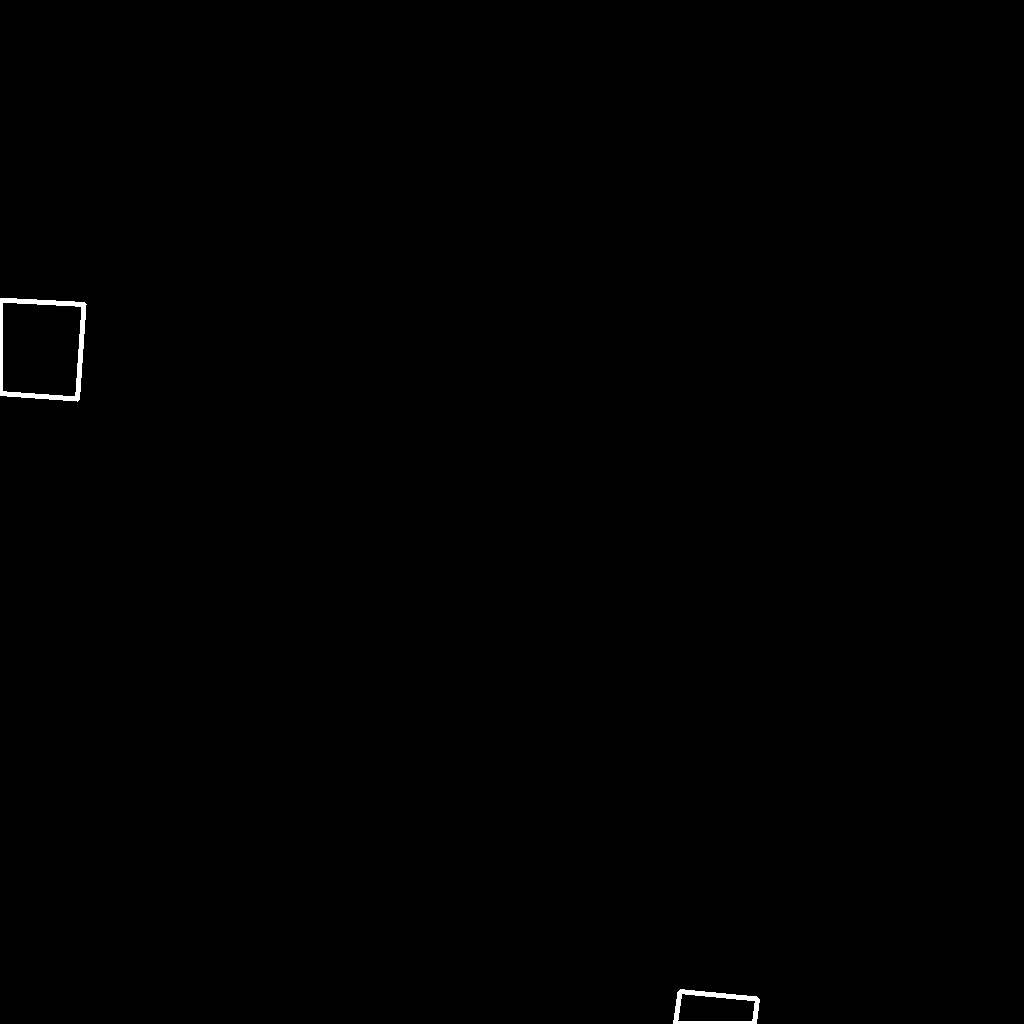building: (0, 300, 85, 400), (675, 991, 759, 1024)
